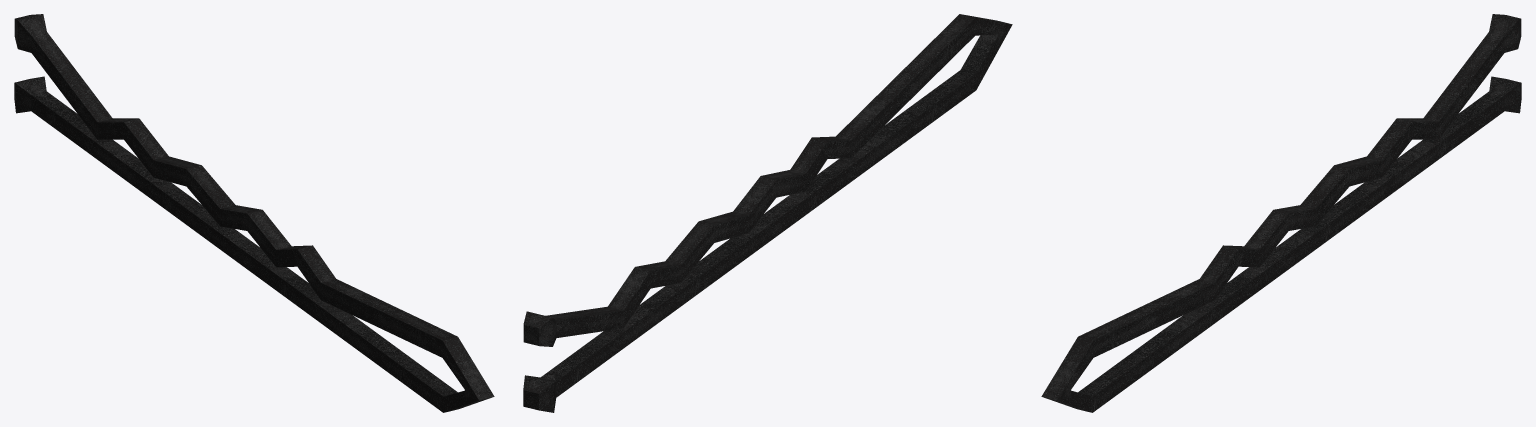
File: fbx_GrampoCabelo.fbx
3 renders of one model, left to right at view 1: azimuth 30°, elevation 25°; view 2: azimuth 150°, elevation 25°; view 3: azimuth 330°, elevation 25°, orthographic.
Visible parts, largest first — view 1: pCube8; view 2: pCube8; view 3: pCube8.
Boxes of the visible parts, box(x1,y1,x2,y2) form: pCube8: box(14, 14, 494, 412); pCube8: box(523, 14, 1012, 412); pCube8: box(1041, 14, 1521, 412).
Bounding box in the file's own units: 0.00185 × 0.00573 × 0.0519.
1 material, 1 textured.
